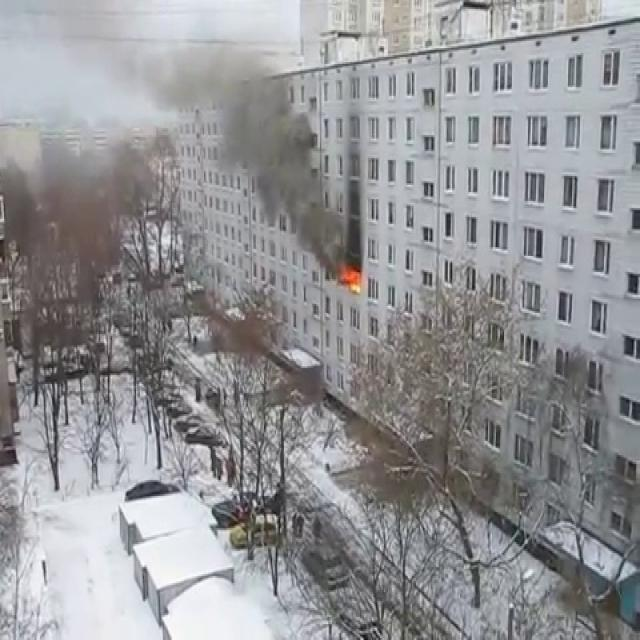Fire: (336, 258, 368, 294)
Smoke: (0, 0, 352, 260)
